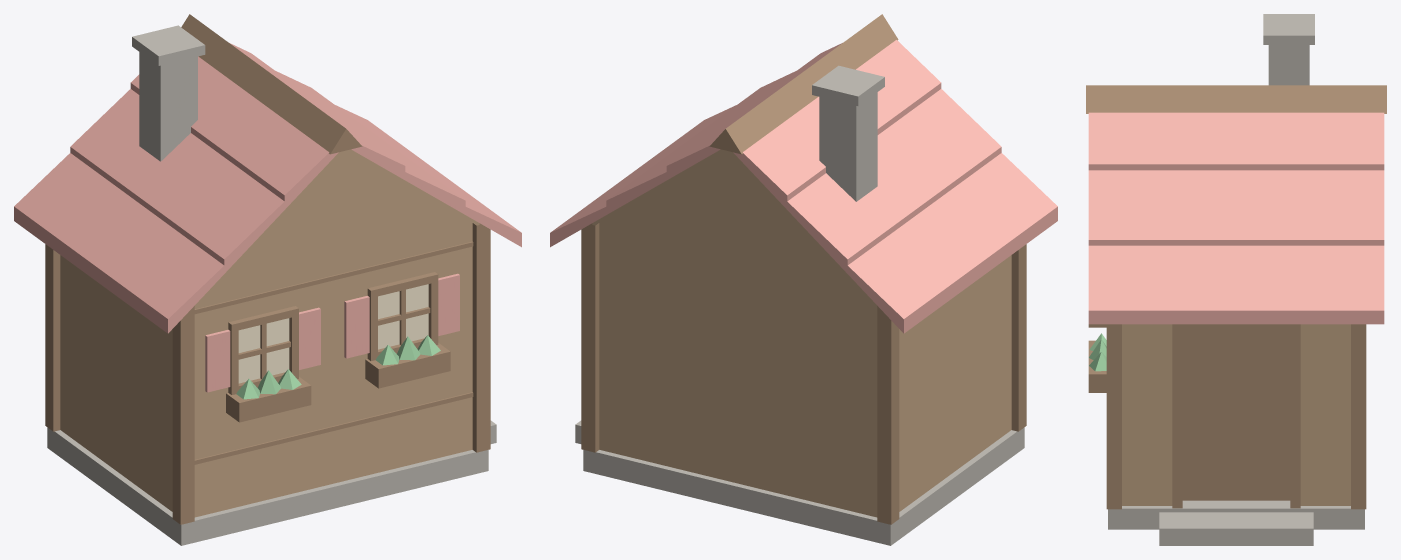
The model's file is cabin.glb.
3 renders of one model, left to right at view 1: azimuth 30°, elevation 25°; view 2: azimuth 150°, elevation 25°; view 3: azimuth 270°, elevation 25°, orthographic. The views are drawn at different scales.
Visible parts, largest first — view 1: cabin; view 2: cabin; view 3: cabin.
Part boxes in pixels (x1=…): cabin: x1=14, y1=14, x2=521, y2=545; cabin: x1=550, y1=14, x2=1057, y2=545; cabin: x1=1086, y1=14, x2=1386, y2=545.
Size of the model in its own units: 3.15 by 3.43 by 2.34.
